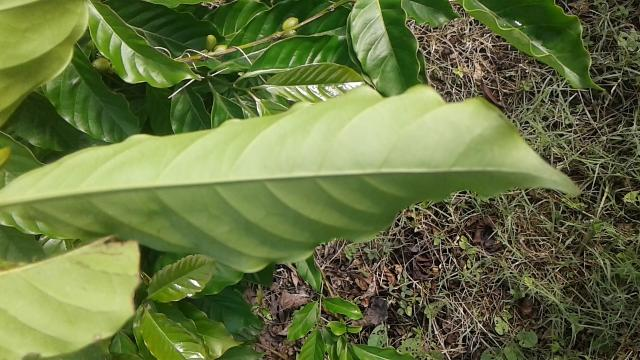healthy: (0, 82, 580, 270)
